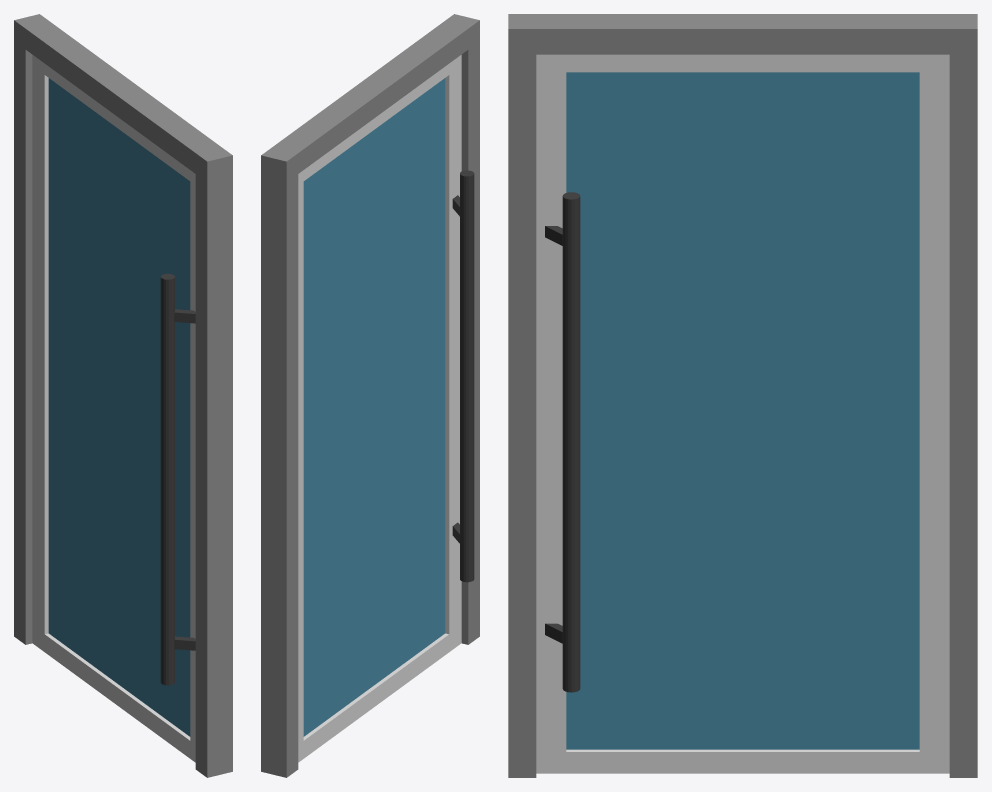
Rendered from door_3.fbx.
The picture shows the model from 3 angles, left to right: view 1: azimuth 30°, elevation 25°; view 2: azimuth 150°, elevation 25°; view 3: azimuth 270°, elevation 25°; orthographic projection. The views are drawn at different scales.
Visible parts, largest first — view 1: frame, surrounds, door handle; view 2: frame, surrounds, door handle; view 3: frame, surrounds, door handle.
Boxes of the visible parts, x1=… form: frame: x1=32, y1=55, x2=195, y2=762; surrounds: x1=14, y1=14, x2=232, y2=777; door handle: x1=160, y1=273, x2=195, y2=685; frame: x1=298, y1=55, x2=461, y2=762; surrounds: x1=261, y1=14, x2=479, y2=777; door handle: x1=452, y1=170, x2=474, y2=582; frame: x1=536, y1=54, x2=949, y2=773; surrounds: x1=508, y1=14, x2=977, y2=777; door handle: x1=545, y1=192, x2=580, y2=692.
Bounding box in the file's own units: 48.27 × 442 × 251.
